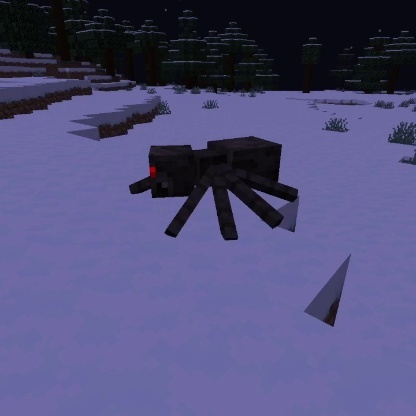spider: (125, 132, 302, 245)
